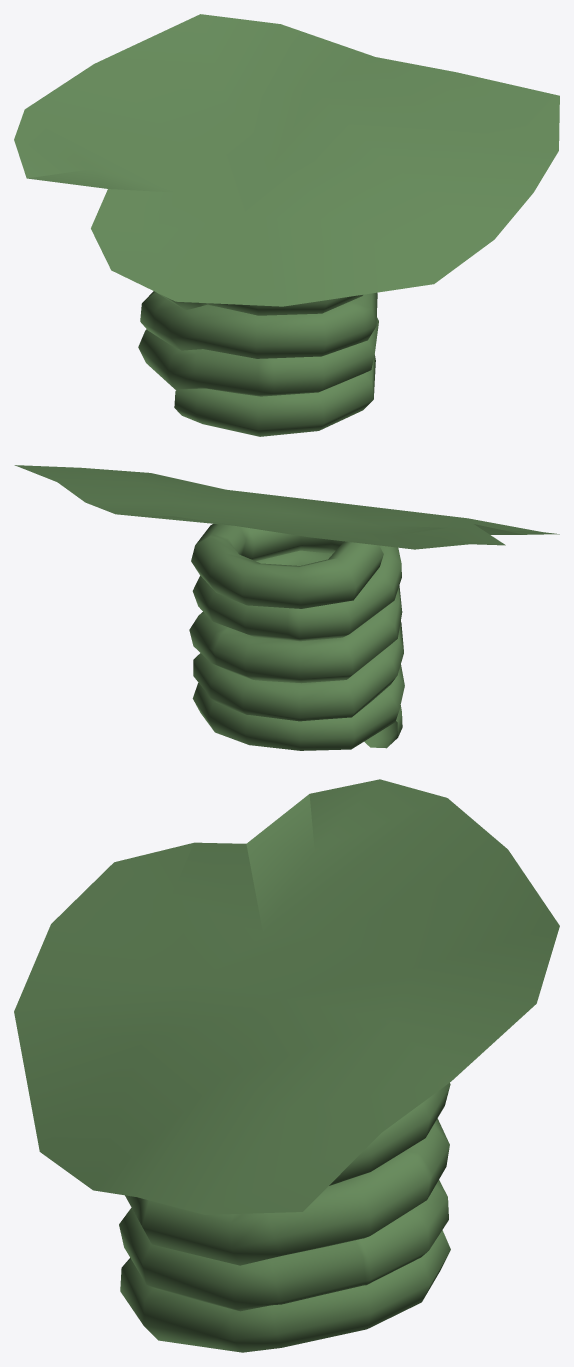
3 views of the same model, one above another, from view 1: azimuth 30°, elevation 25°; view 2: azimuth 150°, elevation 25°; view 3: azimuth 270°, elevation 25° (orthographic). The views are drawn at different scales.
Parts seen in each view (by area): view 1: pPlane1, extrudedSurface1; view 2: extrudedSurface1, pPlane1; view 3: pPlane1, extrudedSurface1.
Part boxes in pixels (left/top/right/bottom): pPlane1: left=14, top=14, right=559, bottom=306; extrudedSurface1: left=138, top=291, right=378, bottom=436; extrudedSurface1: left=189, top=523, right=404, bottom=750; pPlane1: left=14, top=465, right=559, bottom=549; pPlane1: left=14, top=779, right=559, bottom=1214; extrudedSurface1: left=119, top=1083, right=450, bottom=1352.
Bounding box in the file's own units: 2.92 × 1.57 × 1.89.
